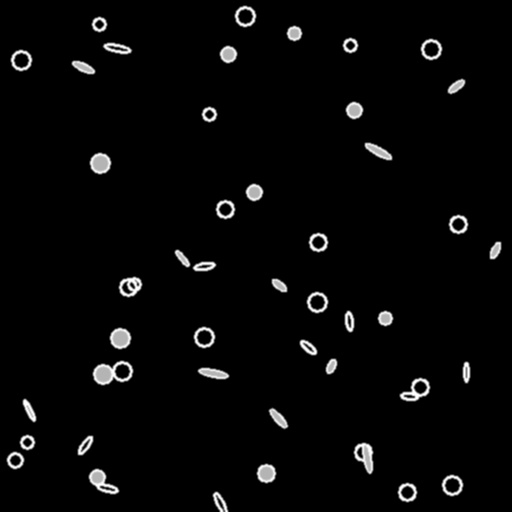pseudomonas: (364, 142, 392, 160), (268, 407, 288, 429), (298, 338, 318, 356), (76, 435, 94, 455), (199, 367, 227, 379), (361, 444, 373, 472), (212, 492, 228, 512), (22, 399, 36, 421), (72, 60, 94, 74), (447, 78, 465, 94), (270, 277, 288, 293), (174, 249, 190, 267), (104, 43, 130, 53), (96, 483, 118, 493), (193, 261, 215, 271), (325, 358, 337, 374), (489, 242, 501, 258), (345, 311, 353, 331), (401, 392, 417, 400), (463, 362, 468, 381)
synechocystis: (94, 365, 112, 383), (113, 362, 131, 380), (308, 293, 326, 311), (91, 154, 109, 172), (12, 51, 30, 69), (195, 328, 213, 346), (422, 40, 440, 58), (443, 476, 461, 494), (236, 7, 254, 25), (111, 329, 129, 347), (355, 444, 371, 460), (217, 201, 233, 217), (310, 234, 326, 250), (412, 379, 428, 395), (399, 484, 415, 500), (120, 279, 136, 295), (258, 465, 274, 481), (450, 216, 466, 232), (221, 47, 235, 61), (90, 470, 104, 484), (347, 103, 361, 117), (8, 453, 22, 467), (247, 185, 261, 199), (288, 27, 300, 39), (93, 18, 105, 30), (128, 278, 140, 290), (21, 436, 33, 448), (344, 39, 356, 51), (379, 312, 391, 324), (203, 108, 215, 120)
